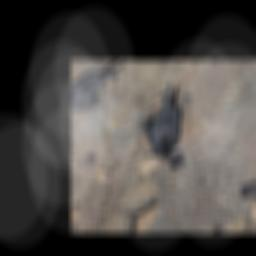Crow: (114, 75, 226, 175)
